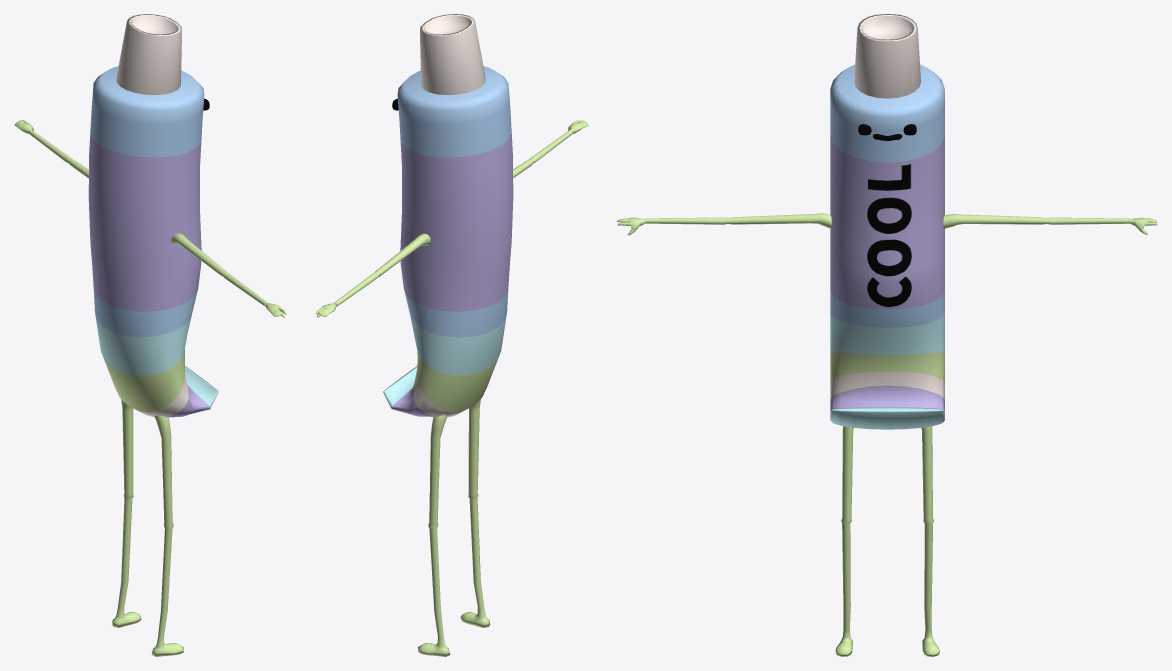
File: Majon.glb
3 views of the same model, side by side, from view 1: azimuth 30°, elevation 25°; view 2: azimuth 150°, elevation 25°; view 3: azimuth 270°, elevation 25° (orthographic). The views are drawn at different scales.
Parts seen in each view (by area): view 1: mesh_char_081; view 2: mesh_char_081; view 3: mesh_char_081.
Part boxes in pixels (x1,y1,x2,y2): mesh_char_081: (14, 14, 286, 656); mesh_char_081: (315, 14, 588, 656); mesh_char_081: (617, 14, 1157, 656).
Bounding box in the file's own units: 0.7935 × 4.58 × 3.57.
Materials: 1 (1 with a texture image).
